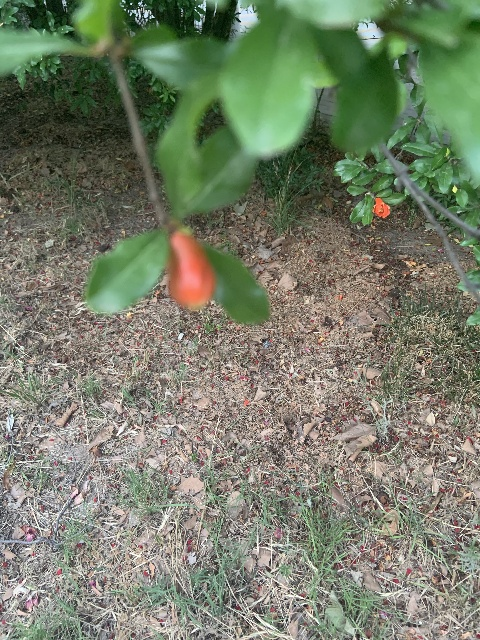bud: (166, 231, 216, 312)
flower: (372, 197, 390, 218)
